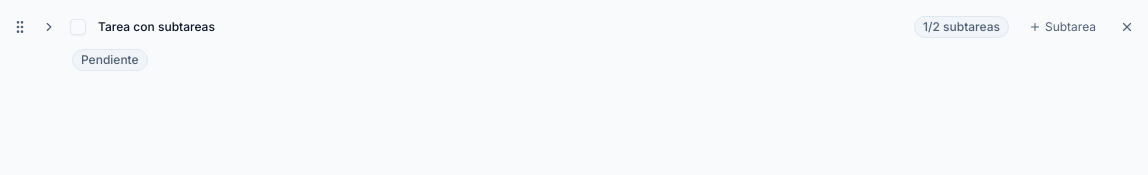
SortableTaskItem (Subtasks Support & Interaction) › expands subtasks list when clicking toggle button
Click the button named "Ver detalles y subtareas": (49, 27) left=36, top=14, right=62, bottom=40
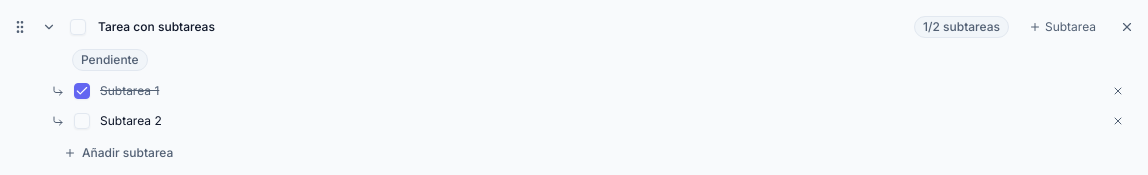
Expected: the text "Subtarea 1" is shown, left=100, top=83, right=159, bottom=98
Expected: the text "Subtarea 2" is shown, left=100, top=113, right=162, bottom=128
